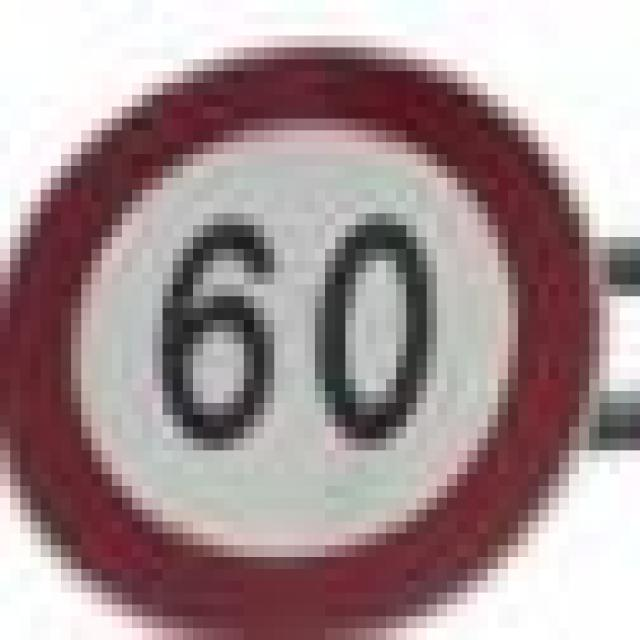speed_limit_60: (0, 35, 599, 628)
